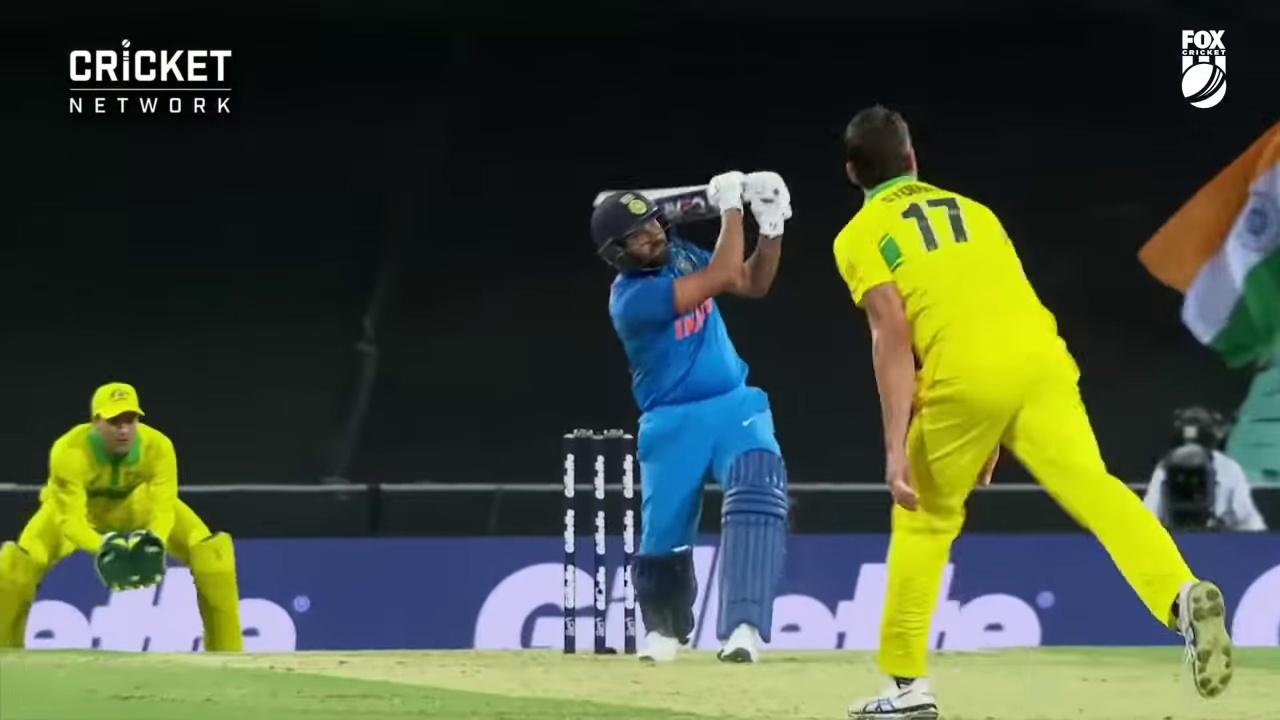batsman: (583, 114, 796, 653)
